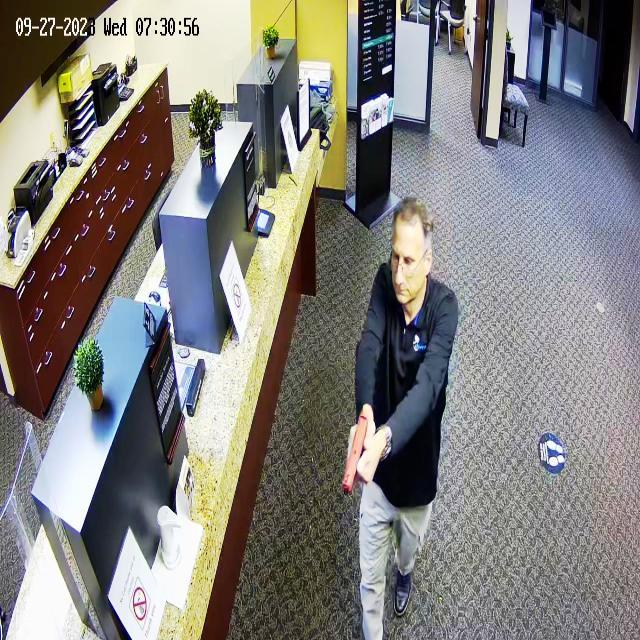Gun: (325, 396, 394, 501)
